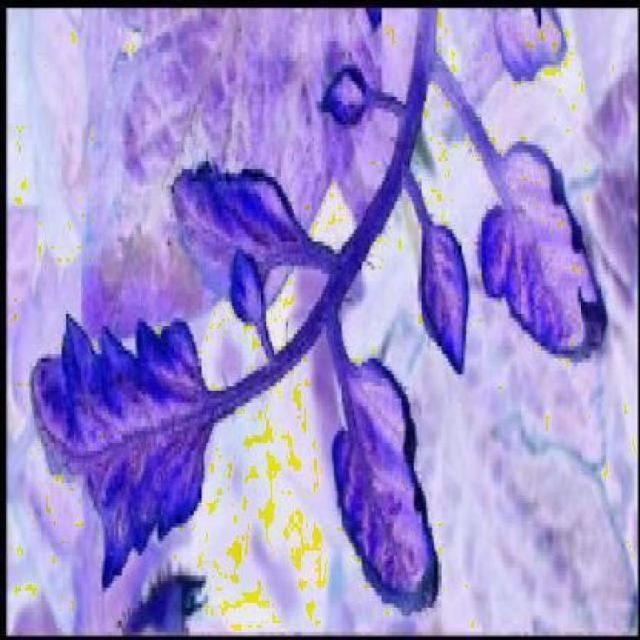Healthy Leaf: (28, 294, 226, 580), (468, 124, 606, 378), (322, 354, 442, 608), (168, 132, 314, 314), (414, 209, 468, 383)
